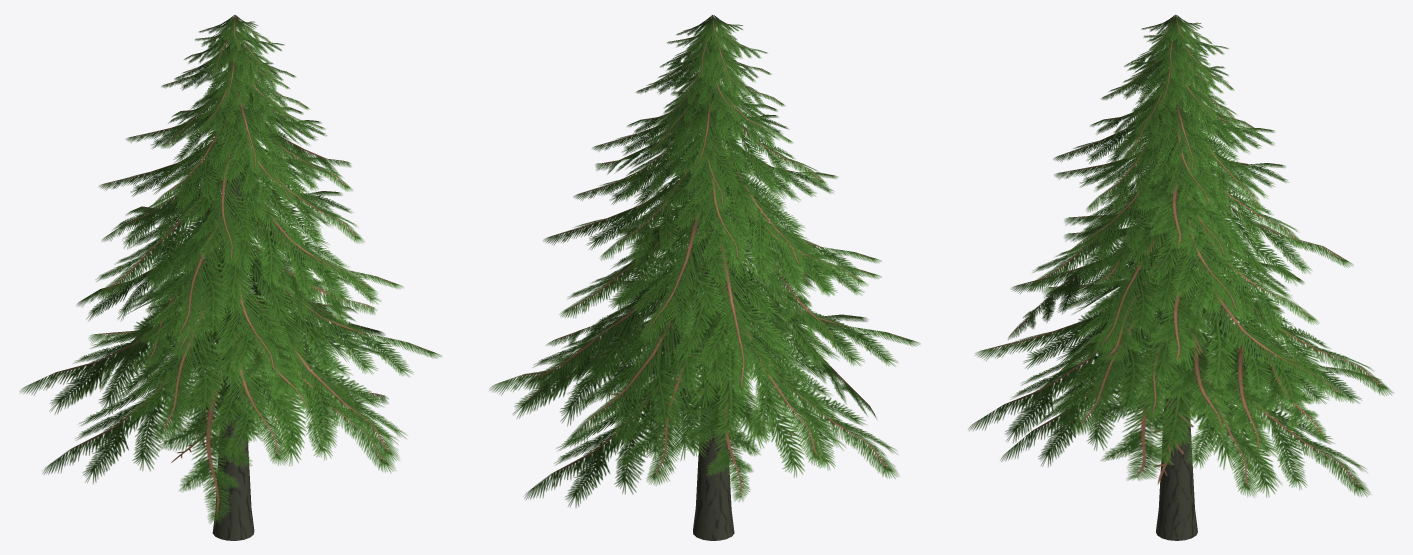
The model's file is pine.glb.
The picture shows the model from 3 angles, left to right: view 1: azimuth 30°, elevation 25°; view 2: azimuth 150°, elevation 25°; view 3: azimuth 270°, elevation 25°; orthographic projection.
Parts seen in each view (by area): view 1: Branches_M_TreeAtlas_0, Trunk_Trunk_0; view 2: Branches_M_TreeAtlas_0, Trunk_Trunk_0; view 3: Branches_M_TreeAtlas_0, Trunk_Trunk_0.
Boxes of the visible parts, x1,y1,x2,y2 form: Branches_M_TreeAtlas_0: (19,15,441,524); Trunk_Trunk_0: (212,31,254,540); Branches_M_TreeAtlas_0: (489,15,920,507); Trunk_Trunk_0: (693,45,734,540); Branches_M_TreeAtlas_0: (968,14,1393,497); Trunk_Trunk_0: (1156,45,1197,540).
Bounding box in the file's own units: 58.35 × 75 × 57.27.
Materials: 2 (2 with a texture image).
